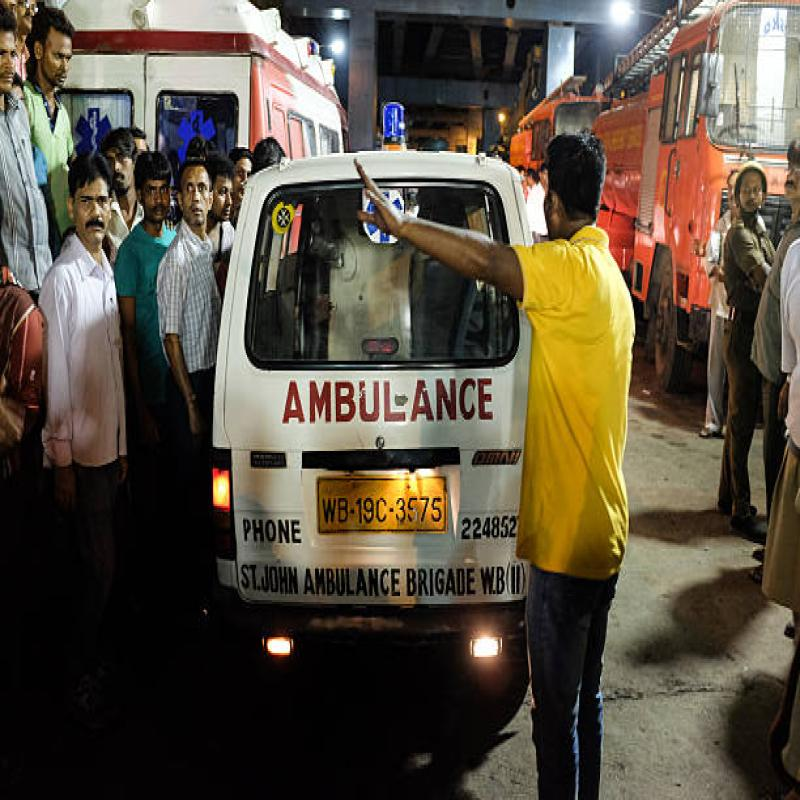ambulance: (207, 90, 555, 710)
